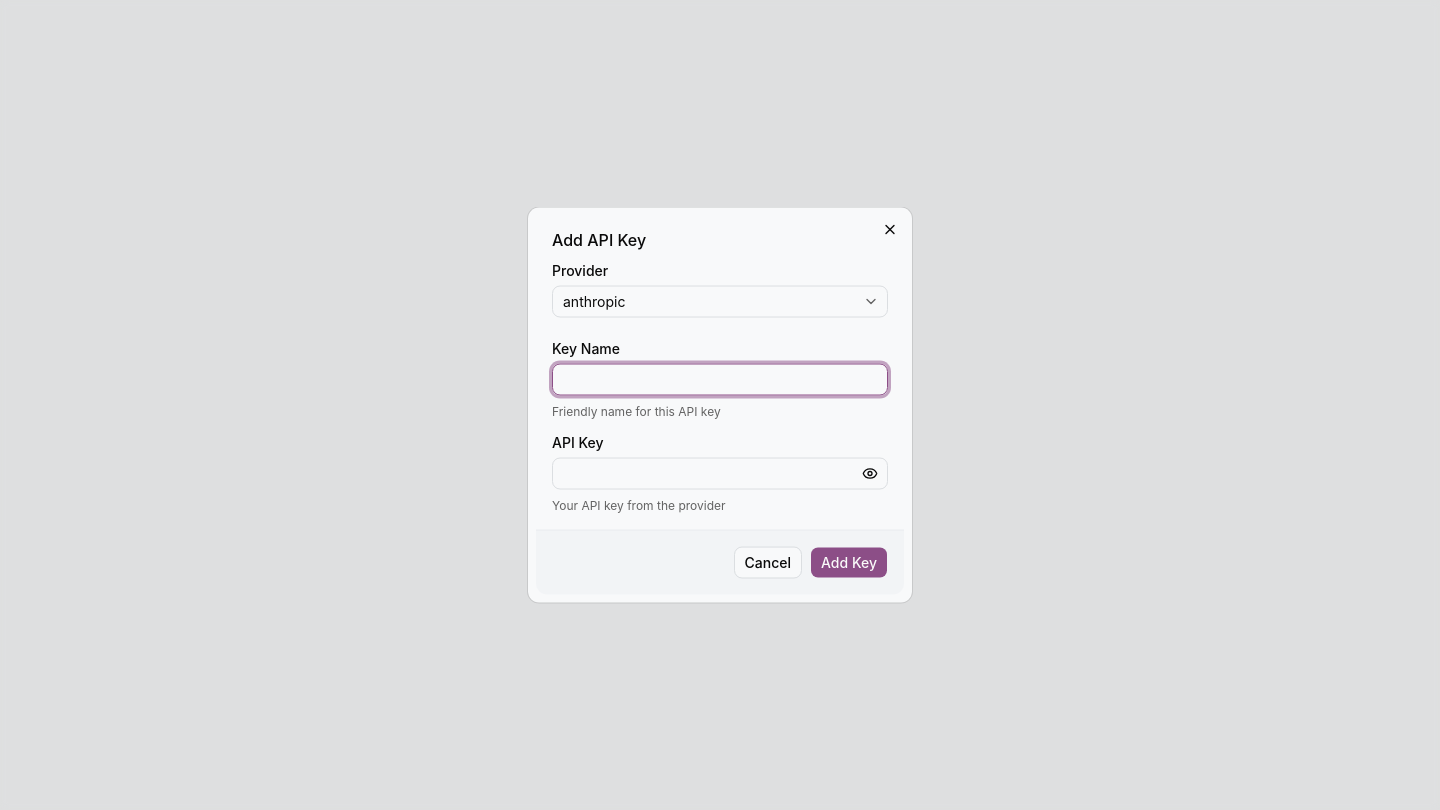
Scenario: ApiKeyDialog › Create Mode › validates API key required in create mode
This screenshot has width=1440, height=810.
Expected: the dialog is shown, [528,208,912,602]
Fill only key name
Type "Test Key" into the field labelled "Key Name". click: {"x": 720, "y": 380}
box: [552,364,888,396]
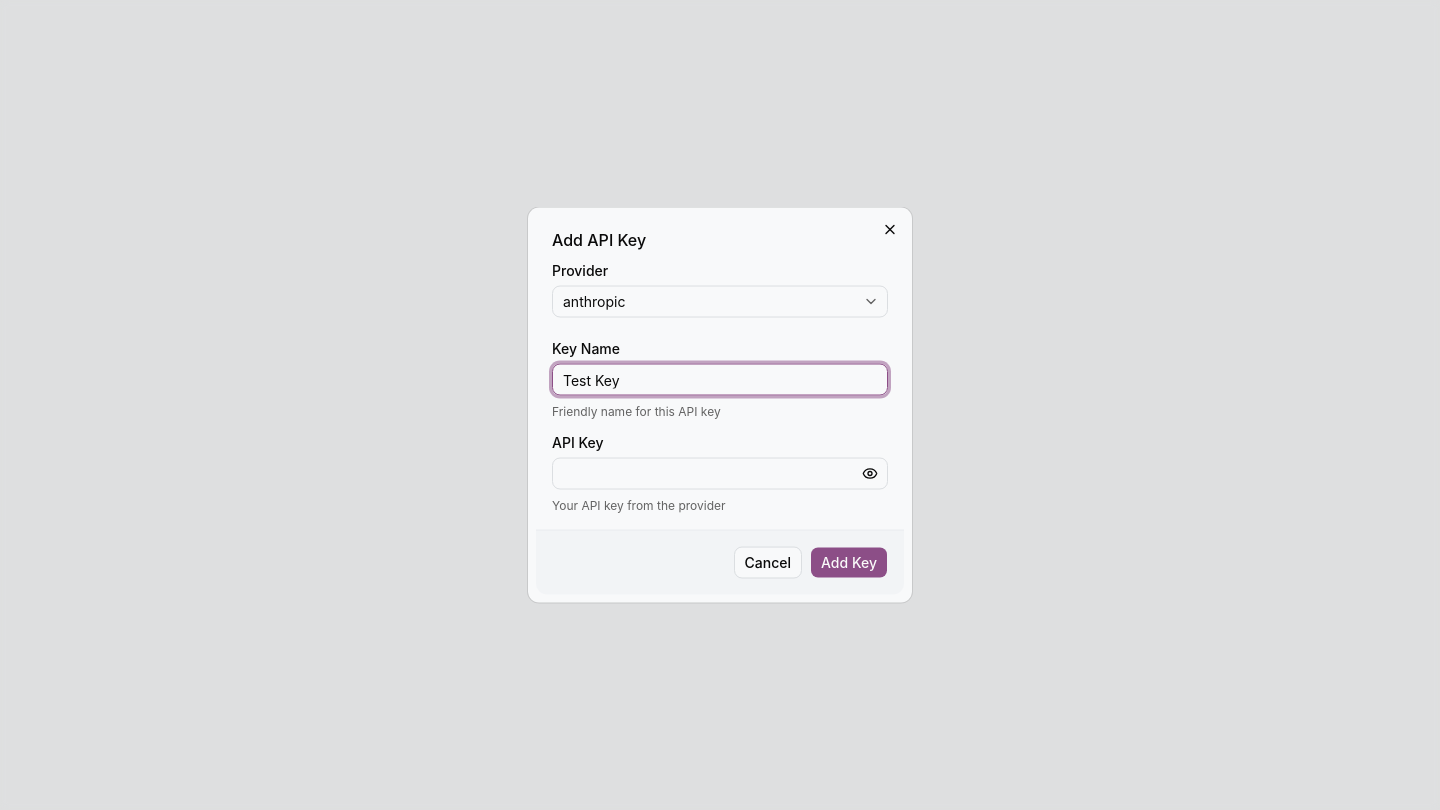
Submit form
Submit the form named "add key", box [552,232,888,578]
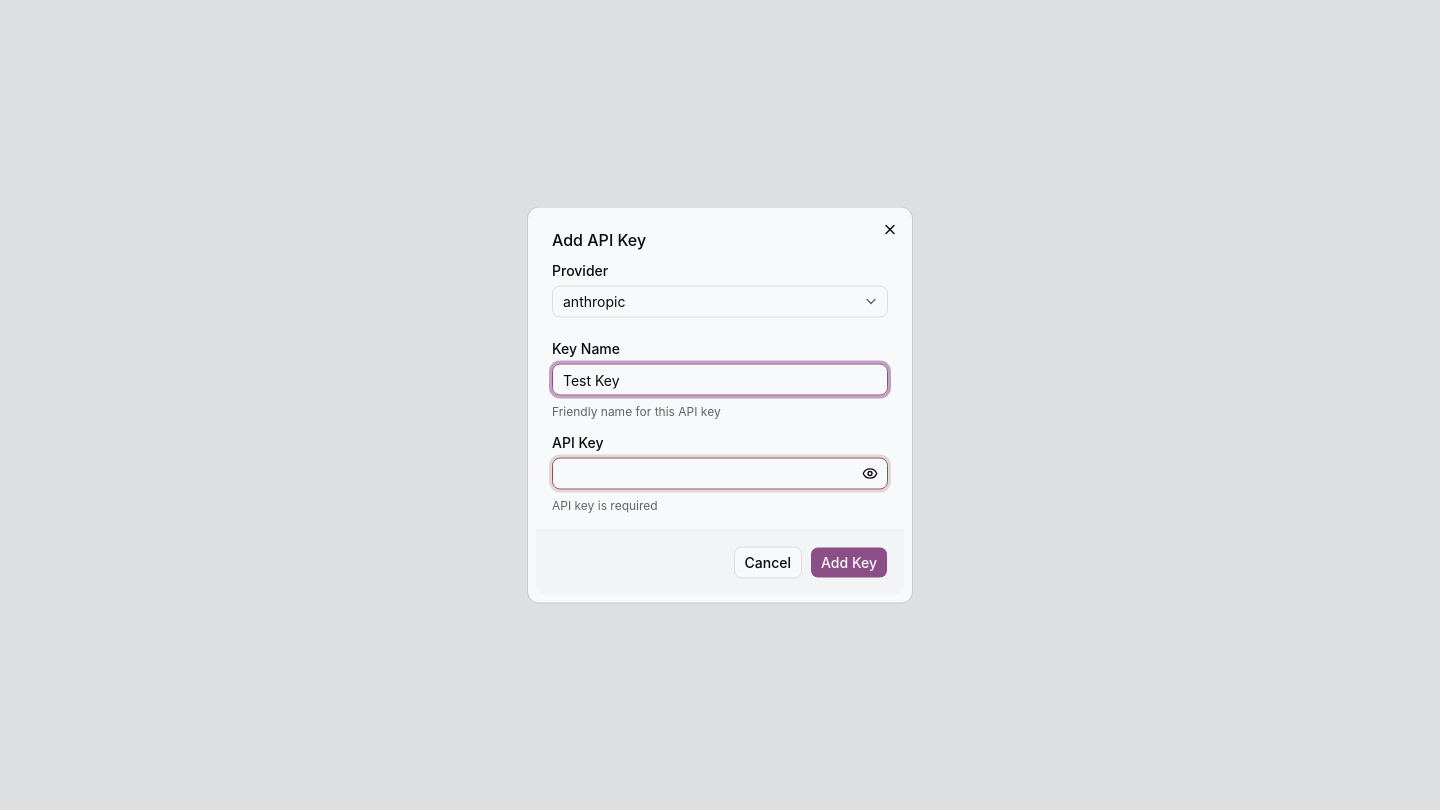
Expected: the text "API key is required" is shown, [552,498,658,512]
